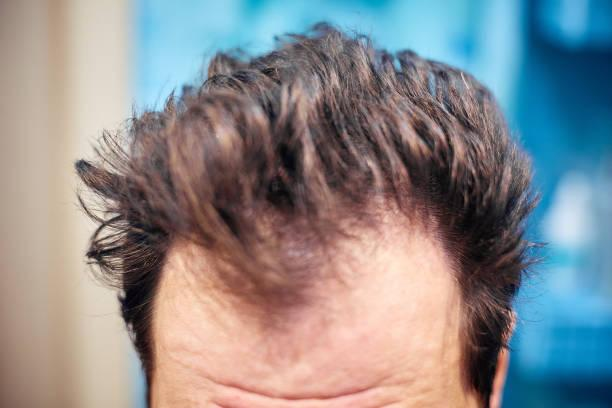low hair density: (257, 209, 335, 308), (369, 166, 429, 218)
